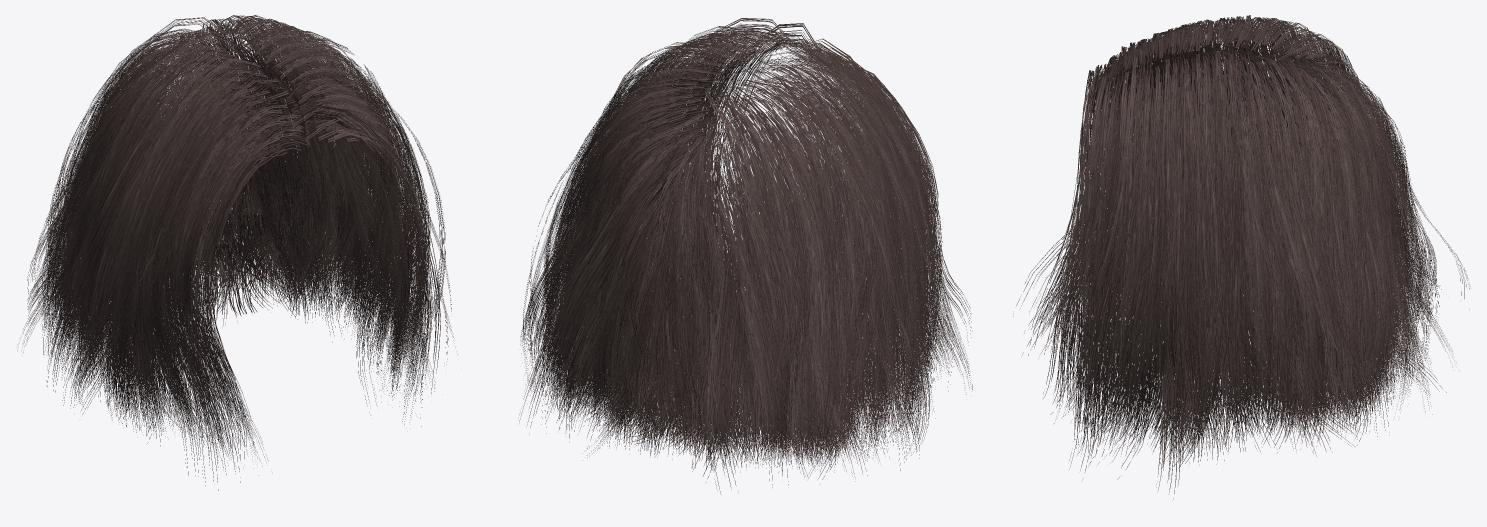
File: Hair02.fbx
3 renders of one model, left to right at view 1: azimuth 30°, elevation 25°; view 2: azimuth 150°, elevation 25°; view 3: azimuth 270°, elevation 25°, orthographic. The views are drawn at different scales.
Visible parts, largest first — view 1: hair2; view 2: hair2; view 3: hair2.
Boxes of the visible parts, x1=… form: hair2: x1=23, y1=15, x2=454, y2=490; hair2: x1=519, y1=18, x2=972, y2=493; hair2: x1=1013, y1=15, x2=1469, y2=499.
Bounding box in the file's own units: 28.22 × 30.79 × 31.52.
Materials: 1 (1 with a texture image).
